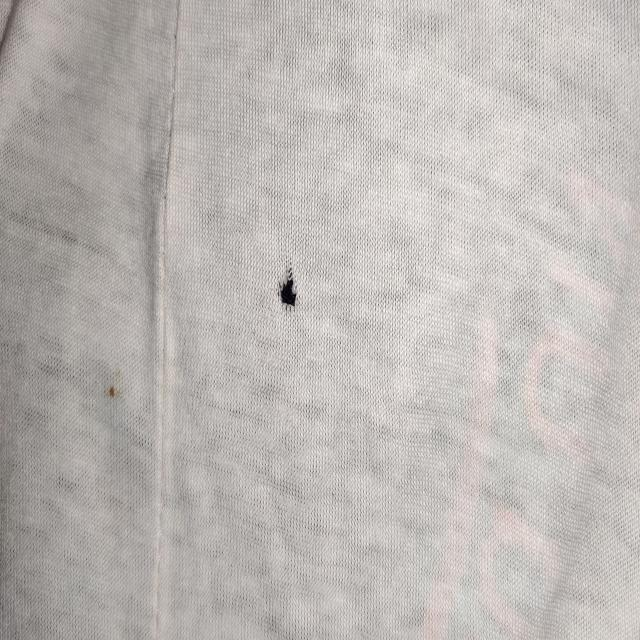Hole: (277, 261, 299, 311), (104, 370, 122, 400)
Line: (147, 0, 184, 640)
